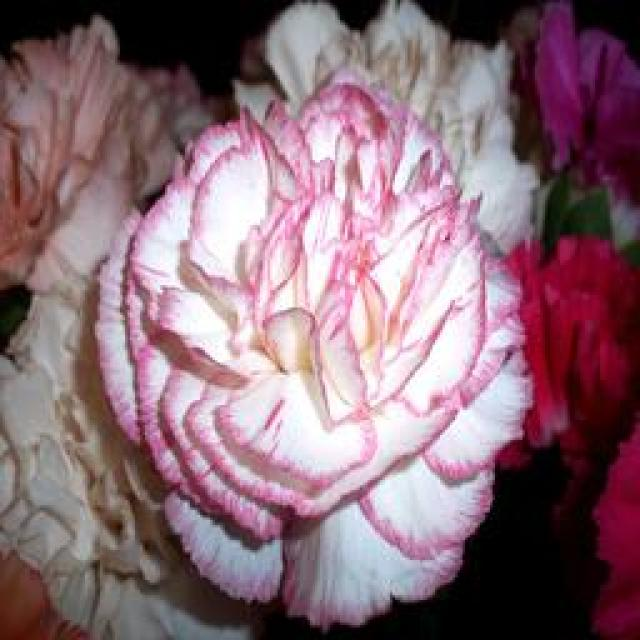carnation: (100, 94, 544, 640)
